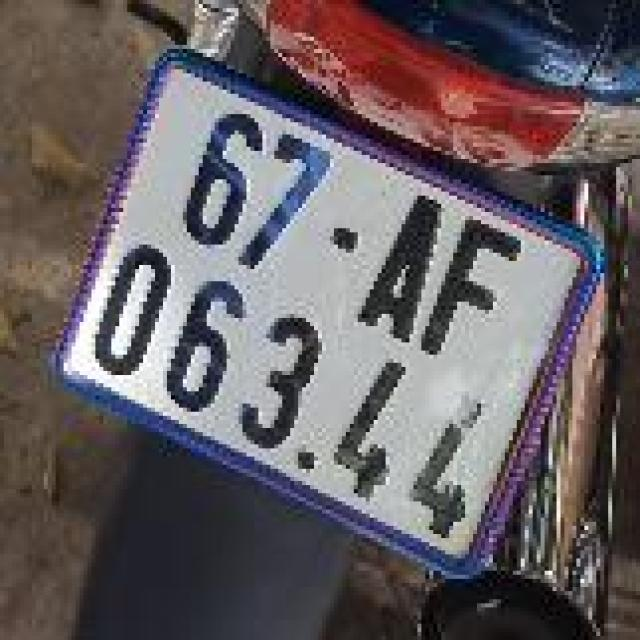0: (76, 227, 196, 388)
3: (220, 294, 348, 470)
4: (315, 344, 441, 519), (393, 385, 520, 558)
6: (166, 96, 282, 266), (149, 261, 268, 425)
7: (227, 119, 344, 287)
A: (344, 184, 460, 356)
F: (412, 204, 538, 383)
